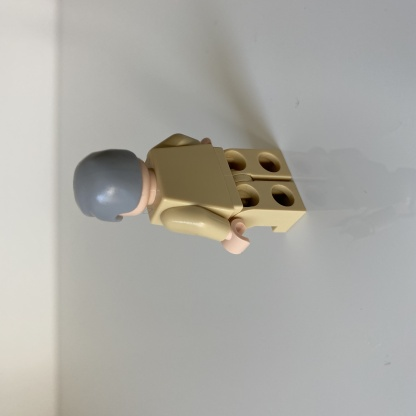obi-wan-kinobi: (72, 132, 306, 255)
